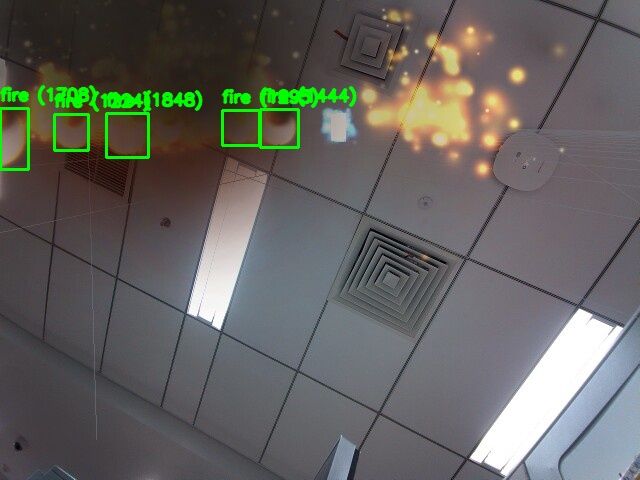fire: (106, 113, 148, 157), (0, 108, 28, 169), (260, 109, 298, 147), (222, 110, 259, 145), (54, 114, 88, 150)
